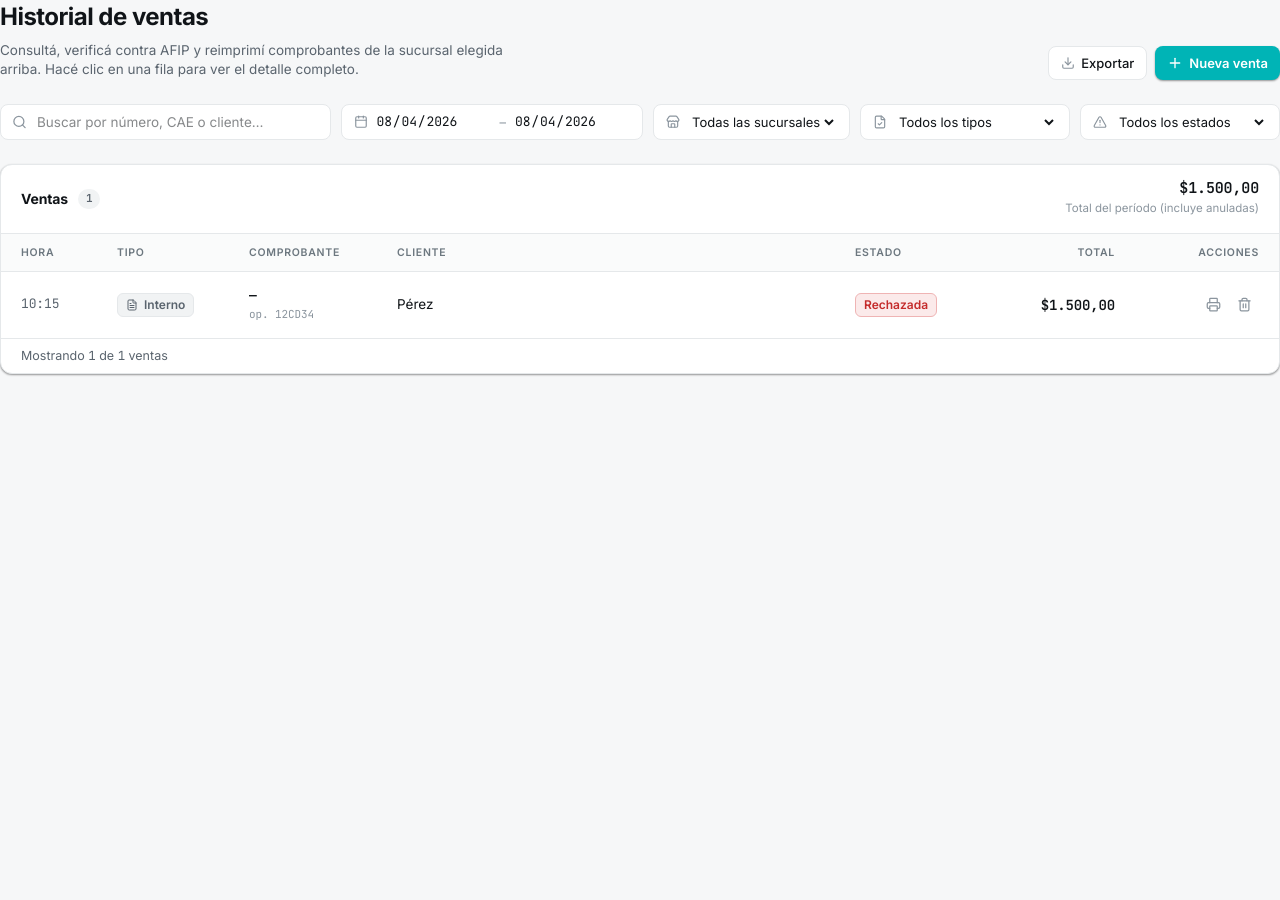
Test: Reintentar la facturación no emite de un clic › la confirmación dice qué comprobante y que el ambiente es PRODUCCIÓN
Click the button "Pérez" at (40,304), box [1,272,1279,339]
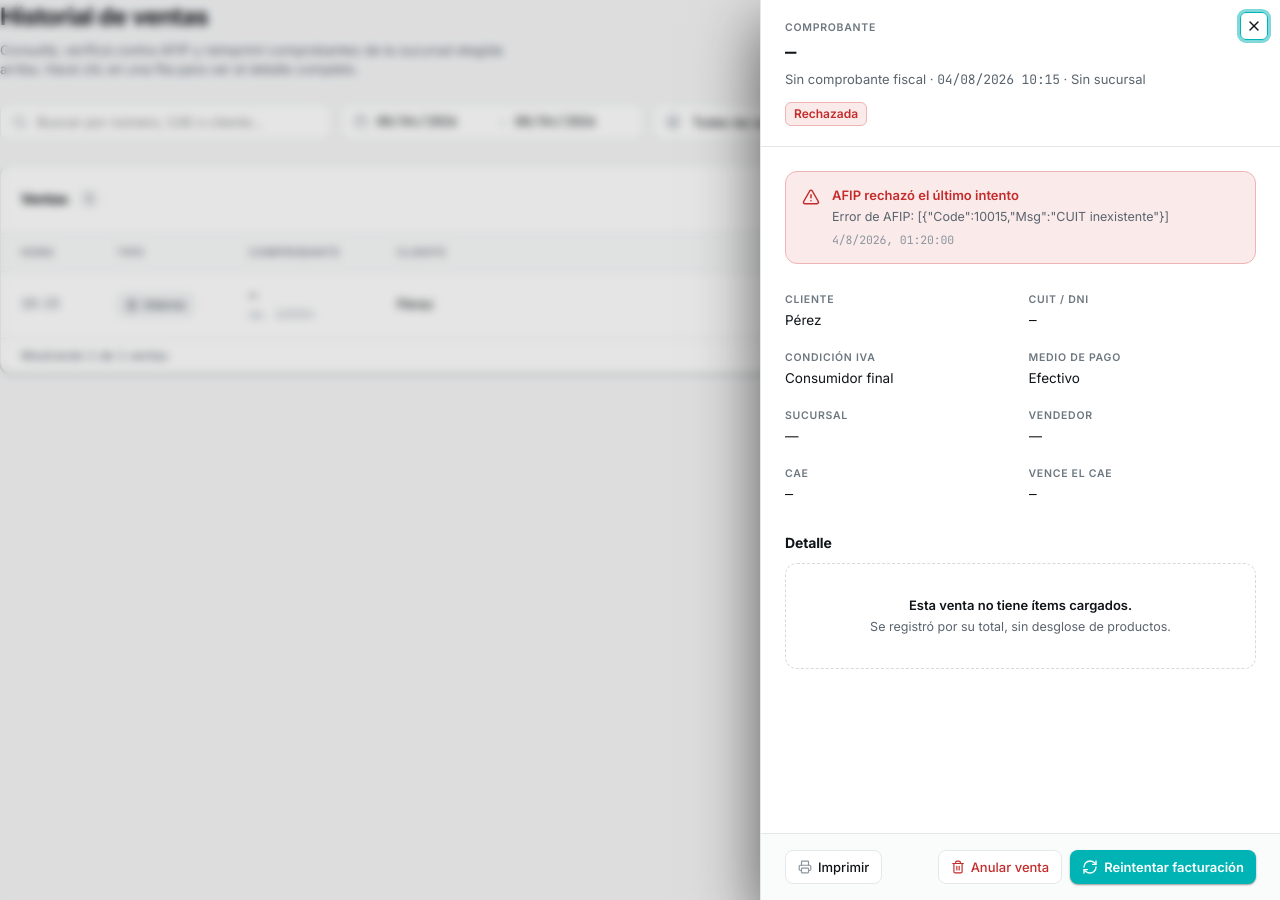
Click the button "Reintentar facturación" at (1163,867), box [1070,850,1256,884]
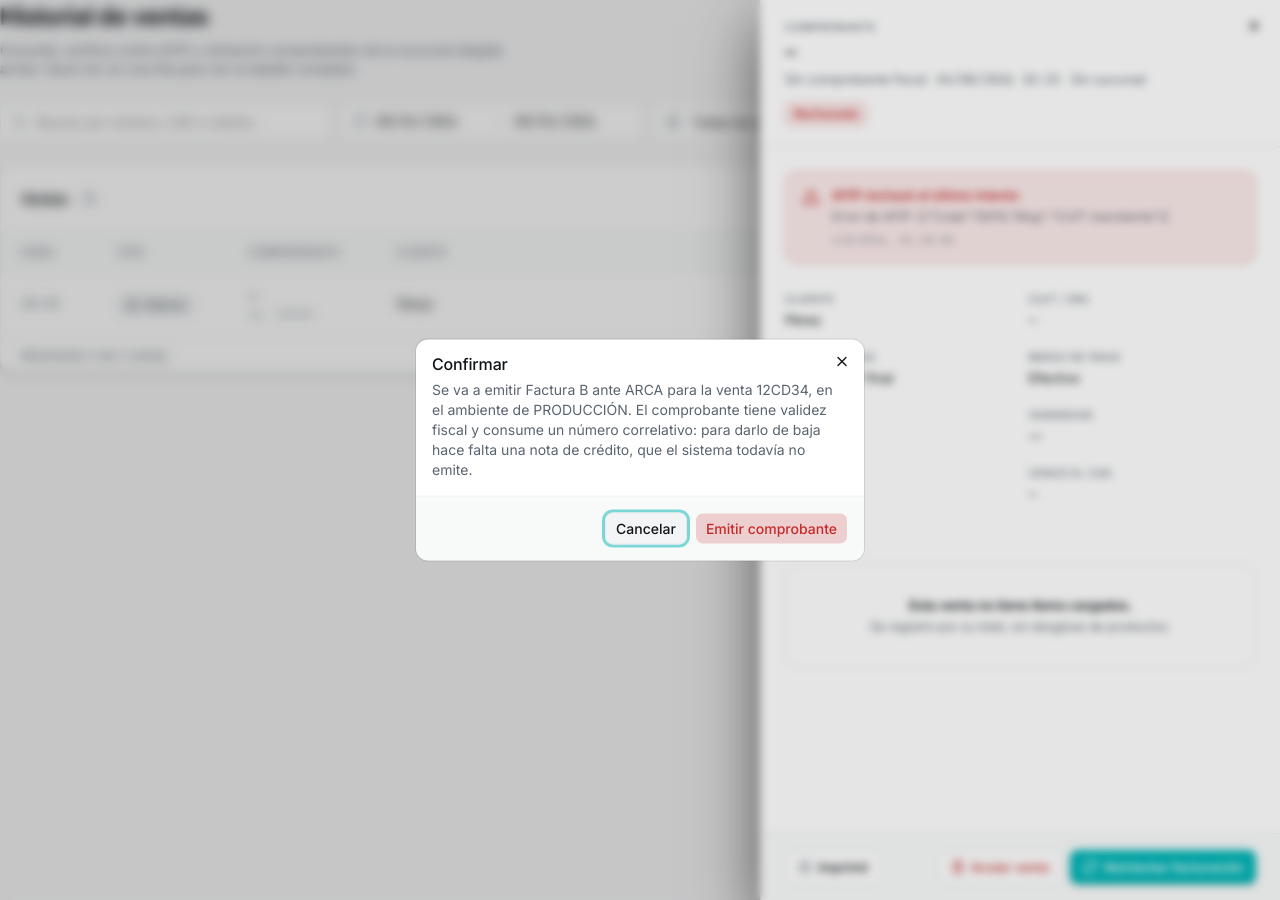
expect the dialog shows "Factura B": met, box [432,380,833,478]
expect the dialog shows "PRODUCCIÓN": met, box [432,380,833,478]
expect the dialog shows "nota de crédito": met, box [432,380,833,478]
